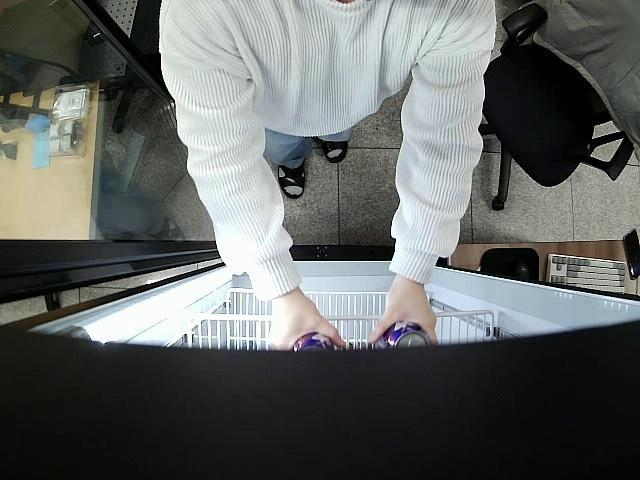14_welchsGrape: (374, 320, 434, 350), (290, 330, 335, 354)
